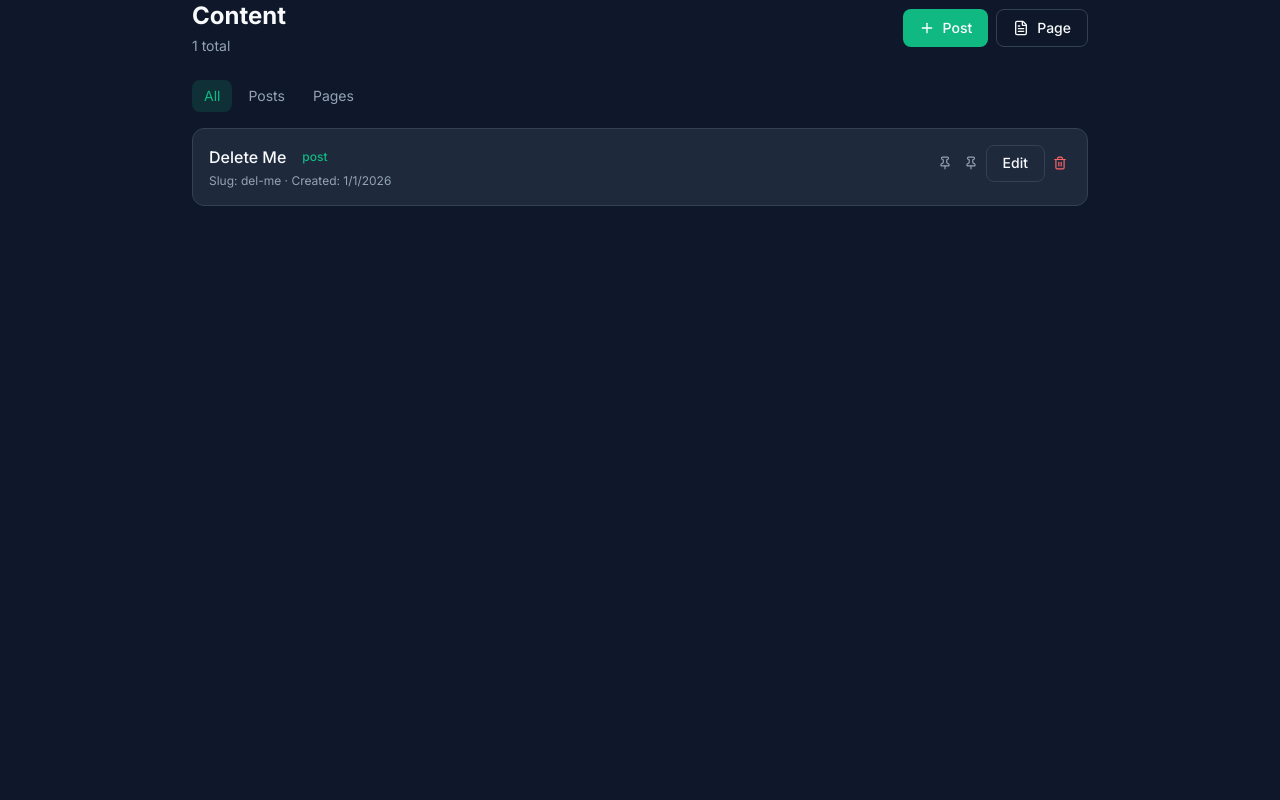
Content settings page › delete content › shows confirmation dialog when delete is clicked
Check: the text "Delete Me" is shown, box [209,145,286,169]
Click the 9th button at point(1060, 163), box [1049,152,1071,174]
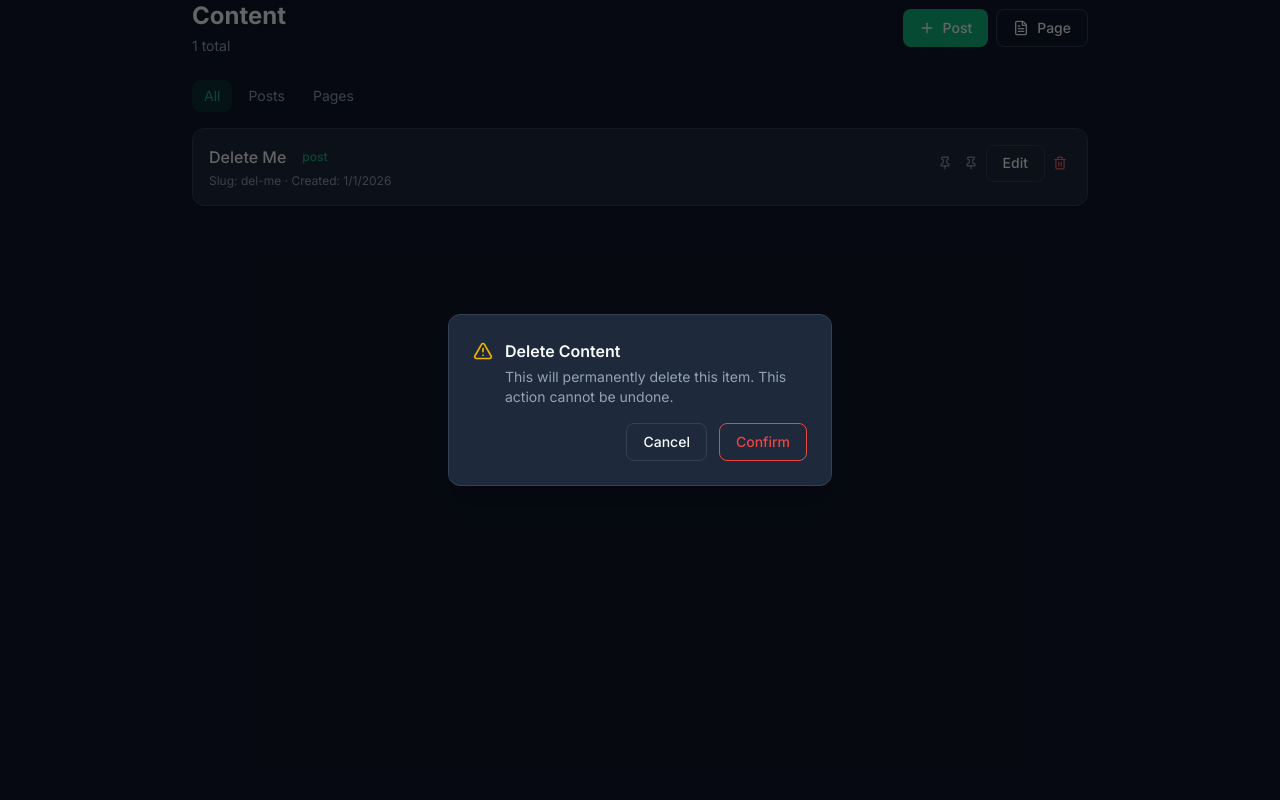
Check: the heading "Delete Content" is shown, box [505,341,620,361]
Check: the text "This will permanently delete this item. This action cannot be undone." is shown, box [505,367,807,407]
